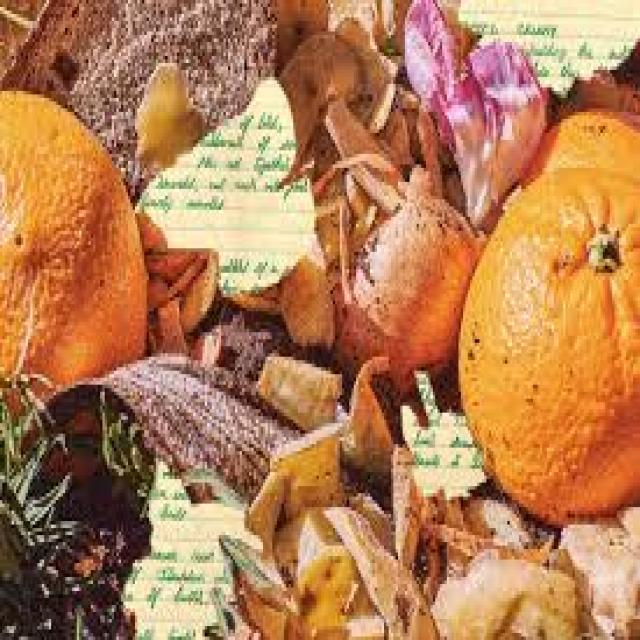Organik: (1, 0, 640, 640), (457, 82, 640, 573), (1, 60, 169, 512)
